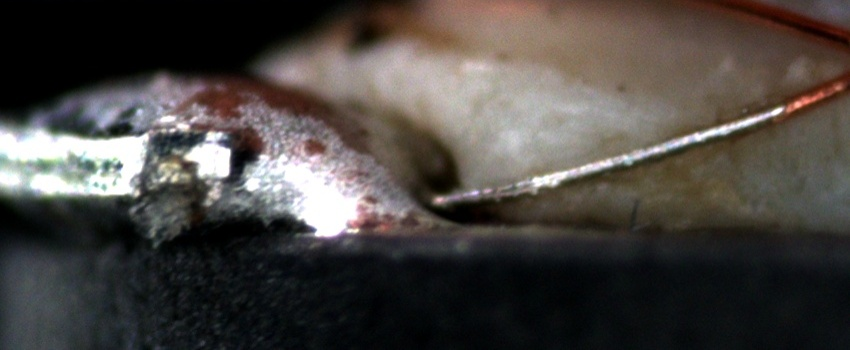TS: (429, 103, 788, 206)
